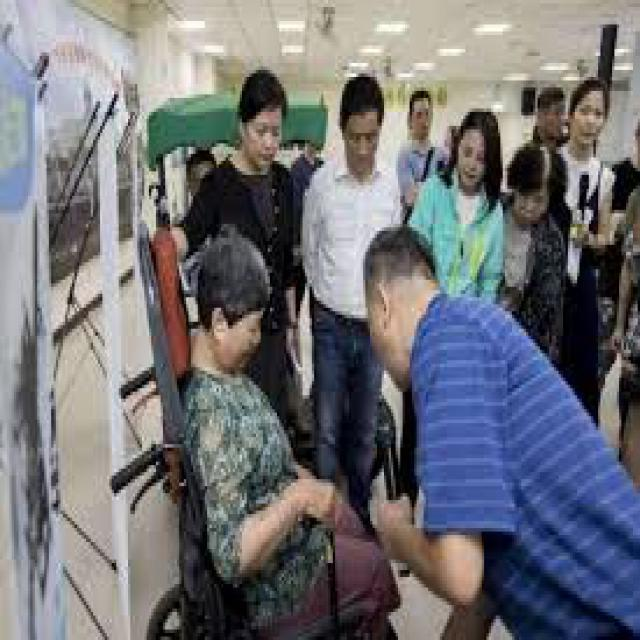wheelchairs: (105, 370, 398, 636)
